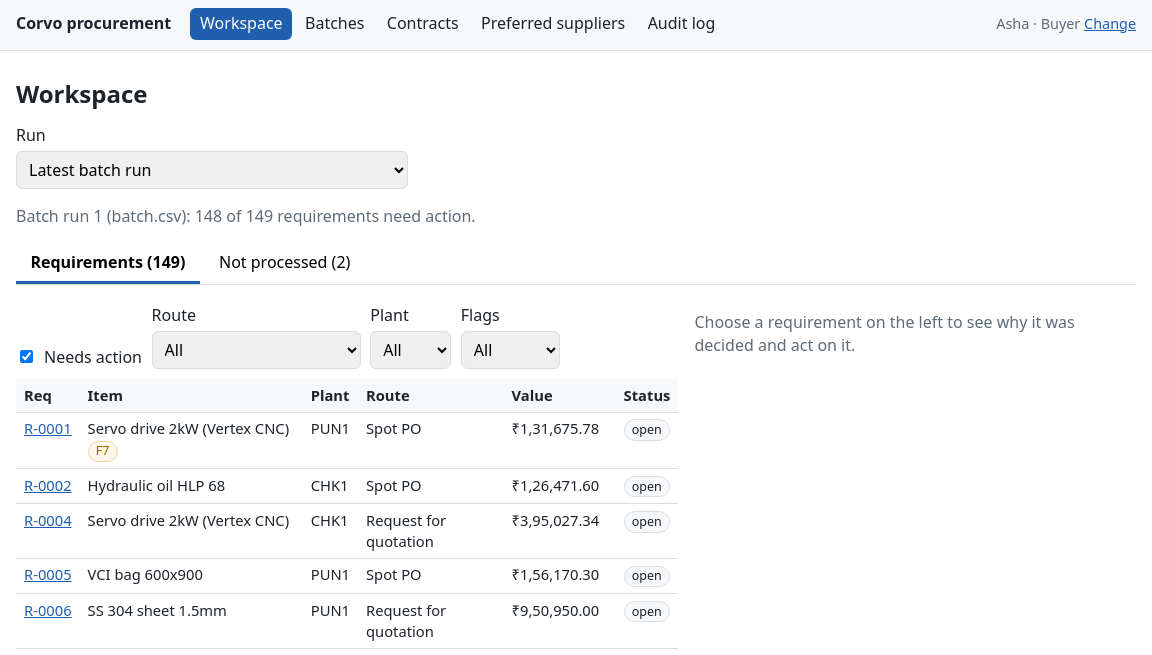
buyer workspace (B4) › an approved requirement shows its outcome instead of the buttons
The width and height of the screenshot is (1152, 655).
Click the checkbox labelled "Needs action" at (26,357), box [20, 350, 33, 363]
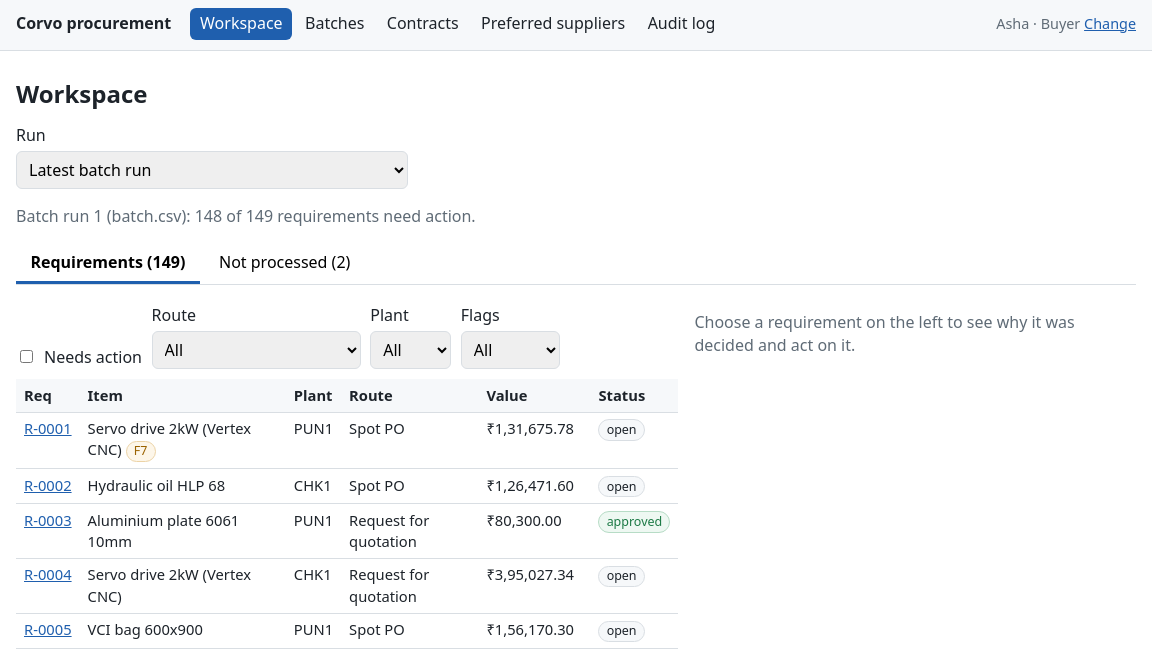
Click the button "R-0003" at (48,520), box [24, 510, 72, 531]
(page scrolled)
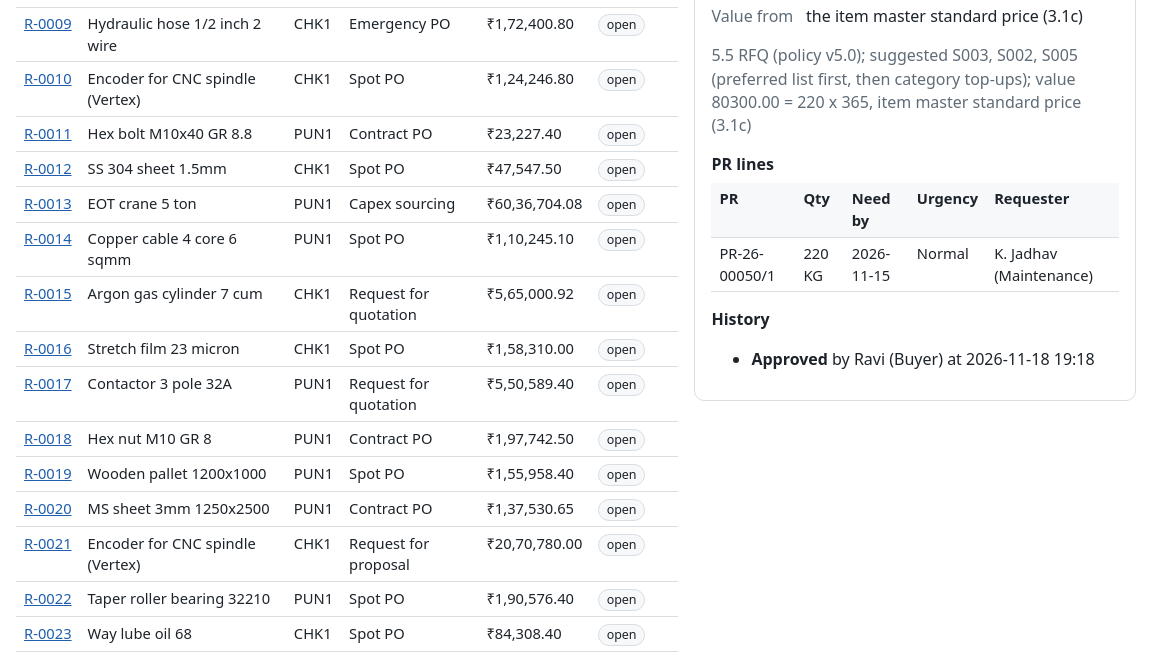
Expected: the text "Approved" is shown, [751, 348, 828, 370]
